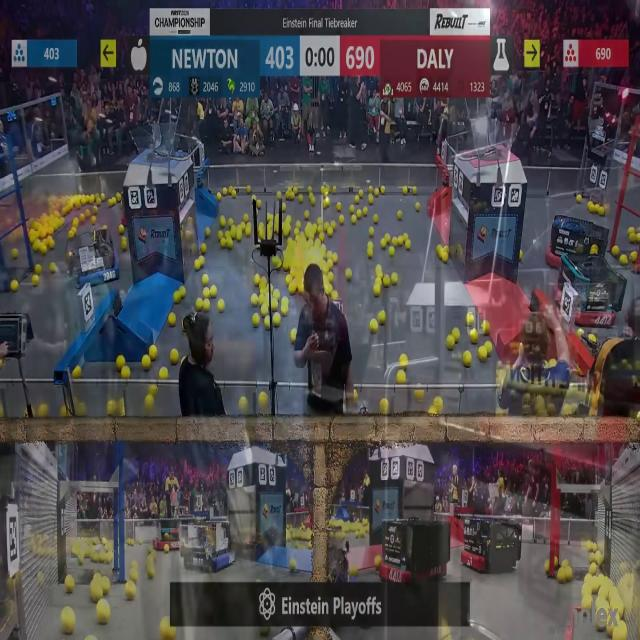ball_ground: (62, 611, 76, 636), (98, 602, 110, 624), (162, 619, 174, 640), (127, 584, 137, 601), (92, 585, 102, 602), (65, 578, 75, 594), (106, 402, 115, 418), (583, 596, 593, 610), (381, 399, 389, 415), (171, 349, 179, 364), (462, 351, 470, 366), (102, 581, 110, 596), (39, 406, 48, 419), (142, 355, 150, 369), (148, 346, 156, 360), (480, 347, 488, 361), (469, 328, 477, 342), (145, 395, 153, 409), (433, 397, 442, 409), (76, 406, 85, 418), (379, 312, 387, 325), (116, 355, 124, 368), (240, 396, 248, 409), (448, 337, 456, 350), (259, 227, 267, 240), (564, 568, 572, 581), (258, 392, 266, 405), (169, 313, 176, 327), (483, 320, 490, 334), (73, 364, 81, 376), (161, 366, 169, 378), (396, 372, 404, 384), (369, 320, 377, 332), (274, 314, 282, 326), (399, 354, 407, 366), (147, 566, 155, 578), (252, 314, 260, 326), (271, 300, 279, 312), (274, 255, 282, 267), (466, 313, 473, 326), (131, 568, 138, 581), (558, 569, 565, 582), (282, 223, 289, 236), (281, 306, 289, 317), (262, 303, 270, 314), (416, 389, 424, 400), (349, 566, 357, 577), (148, 384, 156, 395), (307, 230, 315, 241), (321, 262, 329, 273), (265, 317, 272, 329), (290, 328, 296, 342), (195, 297, 202, 309), (384, 276, 391, 288), (453, 328, 460, 340), (283, 260, 290, 272), (253, 275, 260, 287), (32, 276, 40, 286), (288, 284, 296, 294), (543, 561, 549, 574), (10, 281, 17, 292), (346, 270, 353, 281), (210, 286, 217, 297), (203, 300, 210, 311), (121, 365, 128, 376), (219, 216, 226, 227), (245, 224, 252, 235), (375, 557, 382, 568), (218, 301, 224, 313), (375, 284, 381, 296), (628, 234, 636, 243), (589, 202, 595, 214), (333, 290, 341, 299), (251, 294, 258, 304), (34, 265, 41, 275), (611, 246, 618, 256), (193, 262, 200, 272), (621, 254, 628, 264), (388, 246, 395, 256), (631, 251, 638, 261), (406, 238, 413, 248), (324, 284, 331, 294), (330, 254, 337, 264), (591, 245, 598, 255), (307, 221, 314, 231), (204, 287, 210, 298), (391, 274, 397, 285), (366, 247, 372, 258), (203, 275, 209, 286), (436, 243, 442, 254), (34, 241, 40, 252), (429, 408, 437, 416), (164, 544, 172, 552), (496, 410, 504, 418), (68, 231, 75, 240), (282, 296, 289, 305), (290, 558, 295, 570), (180, 286, 186, 296), (120, 240, 126, 250), (201, 244, 207, 254), (174, 292, 180, 302), (327, 273, 333, 283), (226, 237, 232, 247), (237, 232, 243, 242), (12, 248, 18, 258), (297, 284, 303, 294), (356, 209, 362, 219), (47, 239, 53, 249), (274, 288, 280, 298), (396, 210, 402, 220), (62, 409, 68, 419), (258, 293, 264, 303), (41, 244, 47, 254), (328, 220, 334, 230), (375, 278, 382, 286), (377, 267, 382, 278), (50, 265, 56, 274), (340, 215, 346, 224), (381, 240, 387, 249), (391, 238, 397, 247), (73, 217, 79, 226), (385, 234, 391, 243), (402, 234, 408, 243), (206, 229, 212, 238), (84, 209, 90, 218), (268, 222, 274, 231), (598, 207, 604, 216), (78, 214, 84, 223), (314, 222, 320, 231), (0, 406, 4, 419), (487, 343, 492, 353), (368, 226, 373, 236), (367, 193, 372, 203), (220, 240, 226, 248), (362, 208, 368, 216), (323, 200, 329, 208), (218, 232, 224, 240), (268, 213, 274, 221), (402, 186, 408, 194), (354, 197, 360, 205), (132, 560, 138, 568), (349, 205, 355, 213), (93, 208, 99, 216), (223, 232, 229, 240), (118, 224, 123, 233), (338, 203, 343, 212), (444, 253, 449, 262), (372, 215, 377, 224), (311, 198, 316, 207), (324, 222, 329, 231), (577, 328, 582, 337), (92, 216, 98, 223), (294, 220, 300, 227), (110, 199, 116, 206), (562, 560, 568, 567), (286, 215, 292, 222), (308, 185, 314, 192), (244, 214, 249, 222), (416, 204, 421, 212), (227, 218, 232, 226), (327, 230, 332, 238), (277, 190, 282, 198), (256, 201, 261, 209), (200, 256, 205, 264), (275, 213, 280, 221), (413, 186, 418, 194), (119, 410, 124, 418), (233, 190, 238, 198), (352, 214, 356, 223), (306, 211, 310, 220), (298, 193, 302, 202), (0, 359, 4, 368), (216, 192, 221, 199), (376, 188, 381, 195), (381, 187, 386, 194), (554, 558, 559, 565), (331, 185, 336, 192), (576, 194, 580, 202), (282, 204, 286, 212), (320, 234, 324, 242), (116, 193, 120, 201), (367, 242, 372, 248), (103, 224, 108, 230), (289, 192, 294, 198), (88, 636, 95, 640), (99, 195, 103, 202), (252, 193, 256, 200), (148, 547, 152, 554), (130, 538, 134, 544)
goal: (467, 122, 522, 160), (130, 130, 188, 161)
robot_blue: (71, 228, 121, 286), (191, 520, 237, 574)
robot_red: (556, 257, 626, 330), (380, 515, 449, 586), (460, 514, 516, 573), (548, 214, 589, 270), (154, 519, 183, 550)
